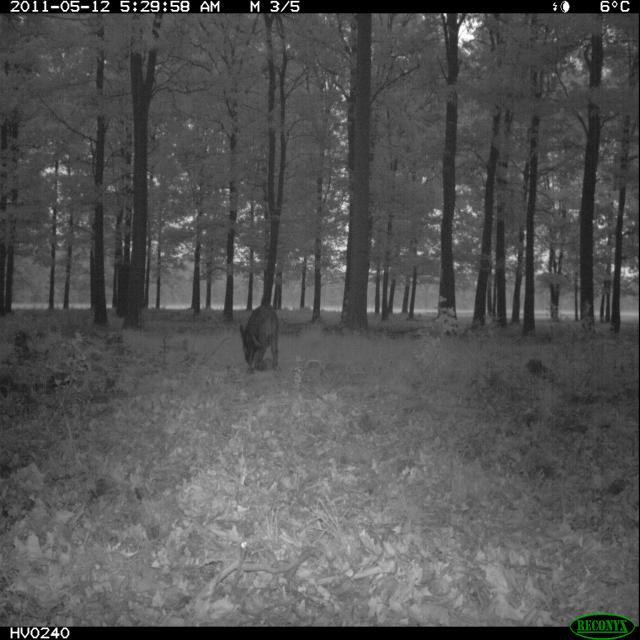boar: (228, 297, 299, 390)
